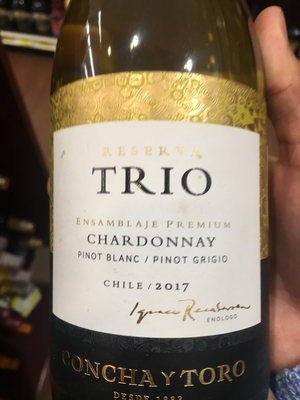trio chardonnay: (42, 33, 278, 400)
